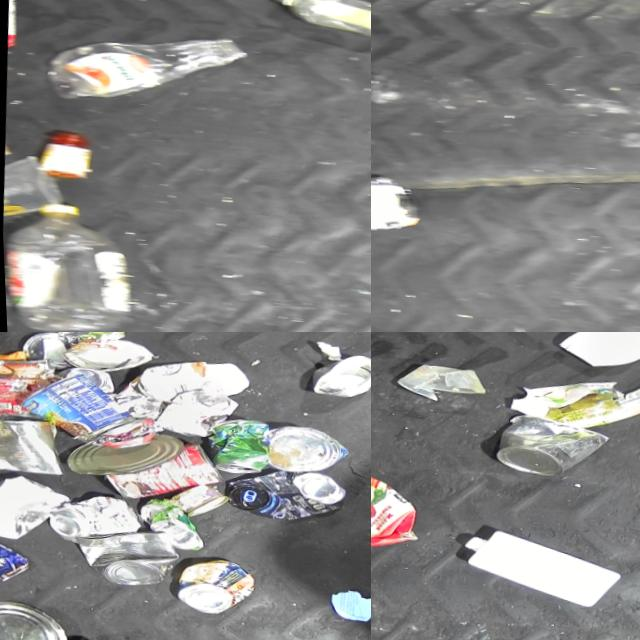can: (13, 368, 138, 446), (99, 434, 223, 504), (493, 410, 611, 479), (224, 463, 347, 523), (69, 522, 179, 588), (62, 425, 183, 480), (44, 490, 141, 545), (170, 554, 254, 615), (151, 385, 240, 440), (263, 421, 349, 474), (0, 414, 66, 474), (204, 414, 270, 474), (60, 335, 155, 374), (0, 351, 53, 420), (134, 497, 204, 549), (306, 349, 371, 398), (0, 595, 68, 640), (166, 480, 227, 518), (18, 332, 72, 367), (0, 525, 30, 582), (53, 365, 115, 392)
milk_jug: (455, 525, 622, 607)
non_white_jug: (371, 452, 427, 551)
plastic_bottle: (39, 20, 258, 115), (0, 199, 141, 332), (262, 0, 371, 37)
